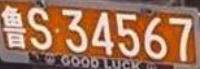S: (28, 0, 52, 50)
